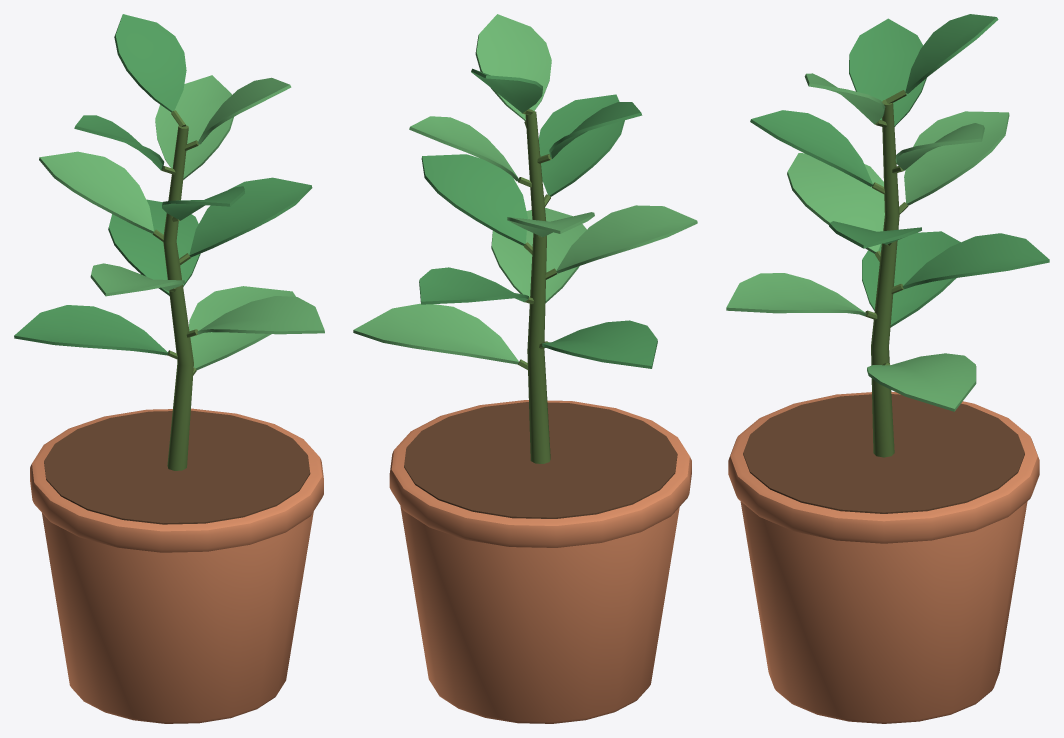
File: plant.glb
The picture shows the model from 3 angles, left to right: view 1: azimuth 30°, elevation 25°; view 2: azimuth 150°, elevation 25°; view 3: azimuth 270°, elevation 25°; orthographic projection. The views are drawn at different scales.
Parts seen in each view (by area): view 1: plant, leaves; view 2: plant, leaves; view 3: plant, leaves.
Boxes of the visible parts, bbox=[...] form: plant: bbox=[30, 408, 323, 723]; leaves: bbox=[14, 14, 324, 470]; plant: bbox=[389, 400, 691, 723]; leaves: bbox=[353, 14, 697, 463]; plant: bbox=[728, 391, 1039, 723]; leaves: bbox=[726, 14, 1049, 457].
Size of the model in its own units: 0.4224 by 0.8888 by 0.3949.
